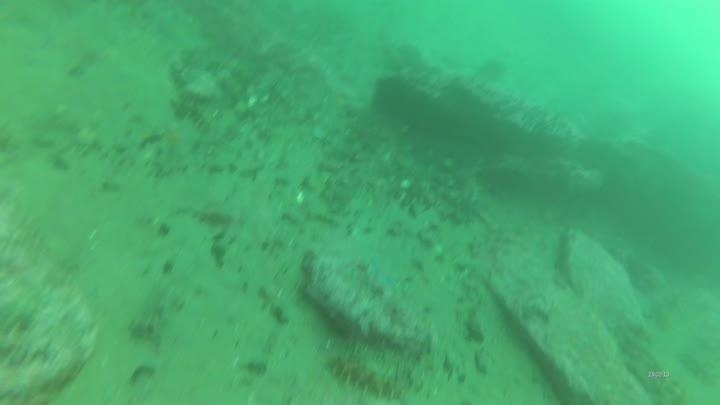echinus: (369, 74, 417, 122)
holothurian: (323, 348, 409, 402), (170, 94, 217, 136)
starfish: (150, 115, 210, 167)
